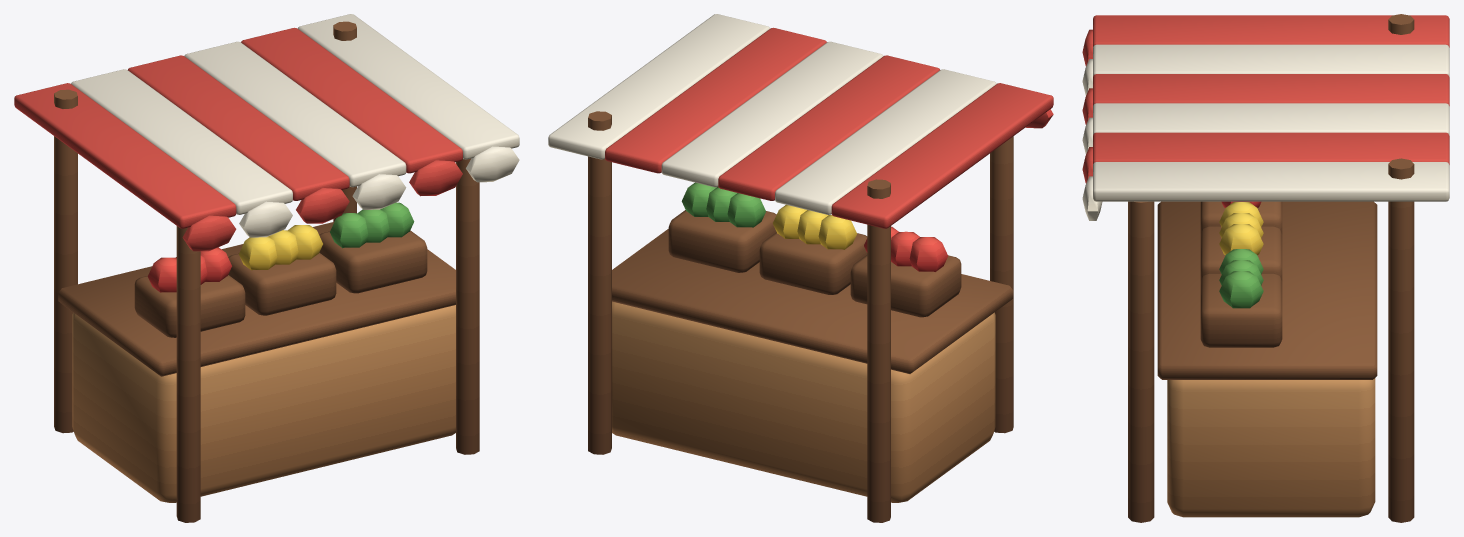
File: stall.glb
3 views of the same model, side by side, from view 1: azimuth 30°, elevation 25°; view 2: azimuth 150°, elevation 25°; view 3: azimuth 270°, elevation 25° (orthographic). The views are drawn at different scales.
Visible parts, largest first — view 1: stall; view 2: stall; view 3: stall.
Boxes of the visible parts, x1=… form: stall: x1=14, y1=14, x2=519, y2=522; stall: x1=548, y1=14, x2=1053, y2=522; stall: x1=1082, y1=14, x2=1449, y2=522.
Size of the model in its own units: 1.12 by 1.05 by 0.988.
1 material, 1 textured.
